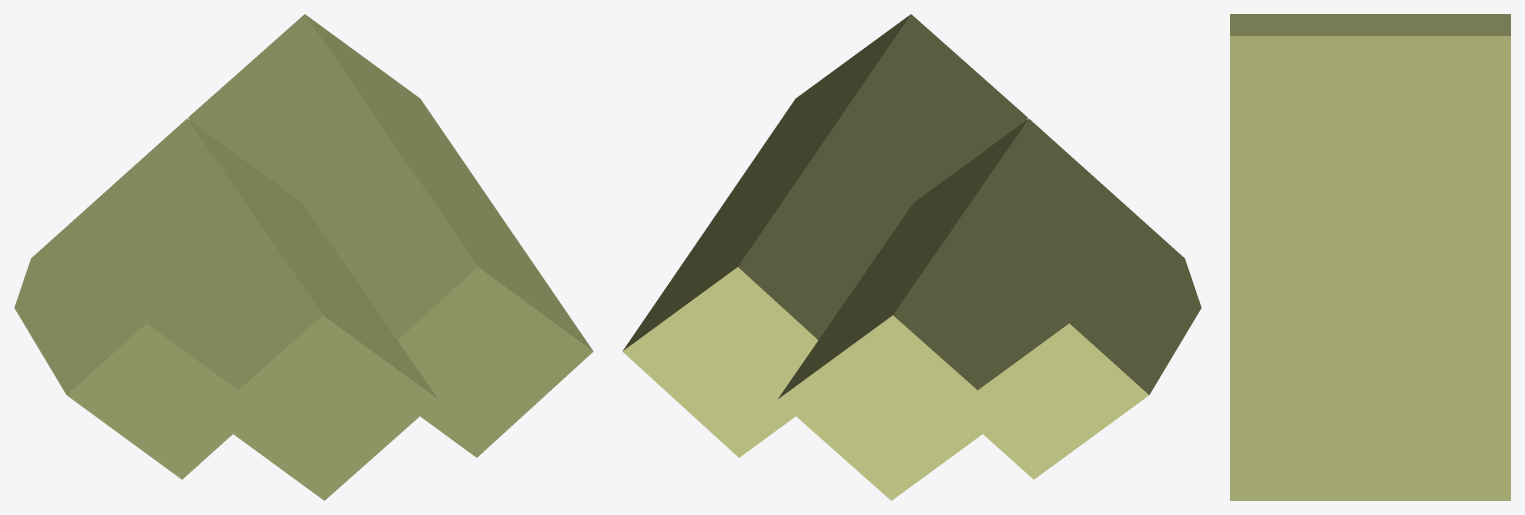
The picture shows the model from 3 angles, left to right: view 1: azimuth 30°, elevation 25°; view 2: azimuth 150°, elevation 25°; view 3: azimuth 270°, elevation 25°; orthographic projection. The views are drawn at different scales.
Visible parts, largest first — view 1: 0_1_0_0_3_3_0_0_3; view 2: 0_1_0_0_3_3_0_0_3; view 3: 0_1_0_0_3_3_0_0_3.
Part boxes in pixels (<box>): 0_1_0_0_3_3_0_0_3: <box>14,14,593,500</box>; 0_1_0_0_3_3_0_0_3: <box>622,14,1201,500</box>; 0_1_0_0_3_3_0_0_3: <box>1230,14,1510,500</box>.
Bounding box in the file's own units: 20.85 × 16.28 × 9.
